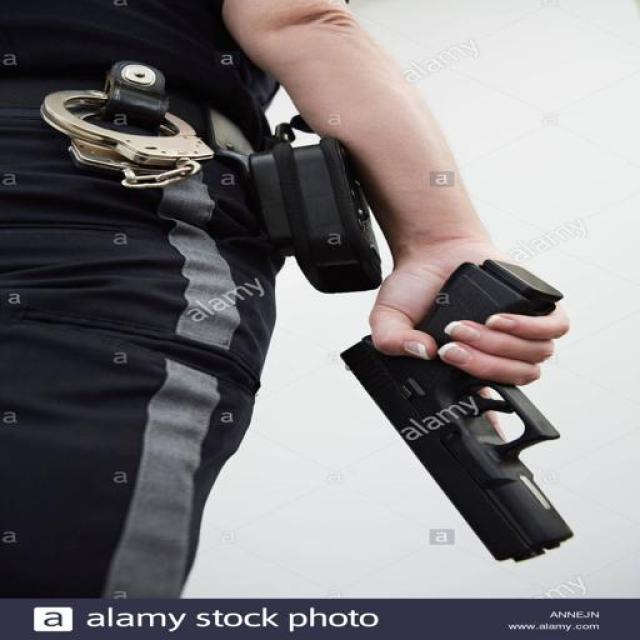pistol: (338, 260, 584, 564)
